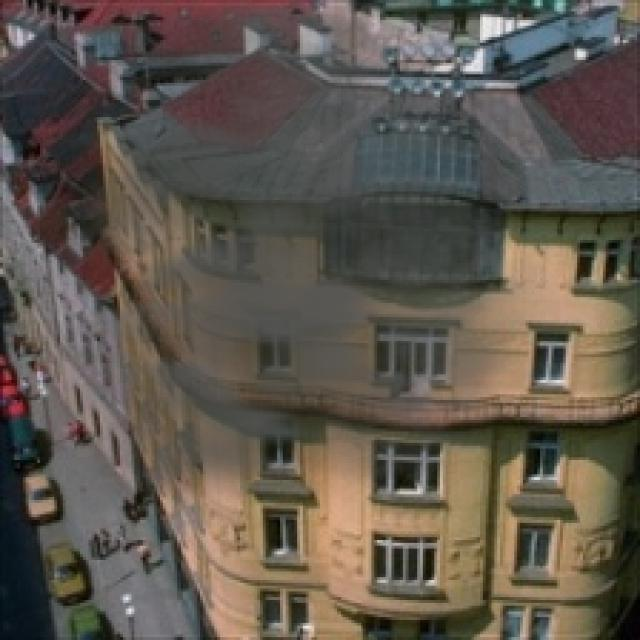Smoke: (40, 6, 600, 526)
